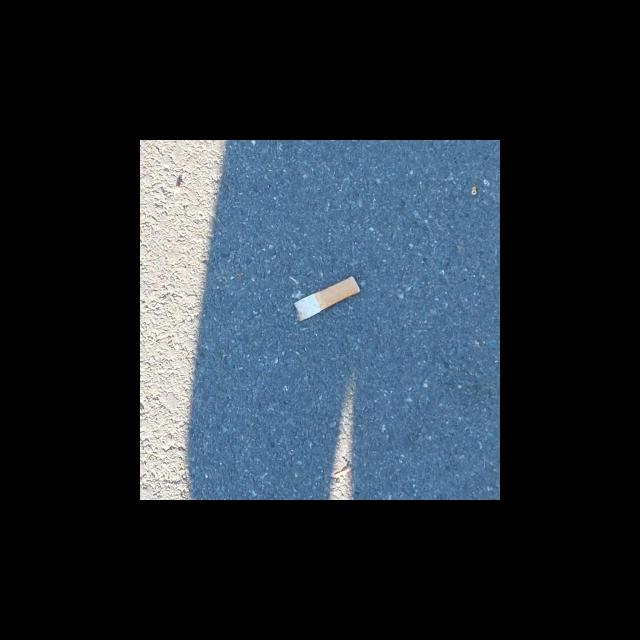cigarette: (293, 275, 360, 322)
